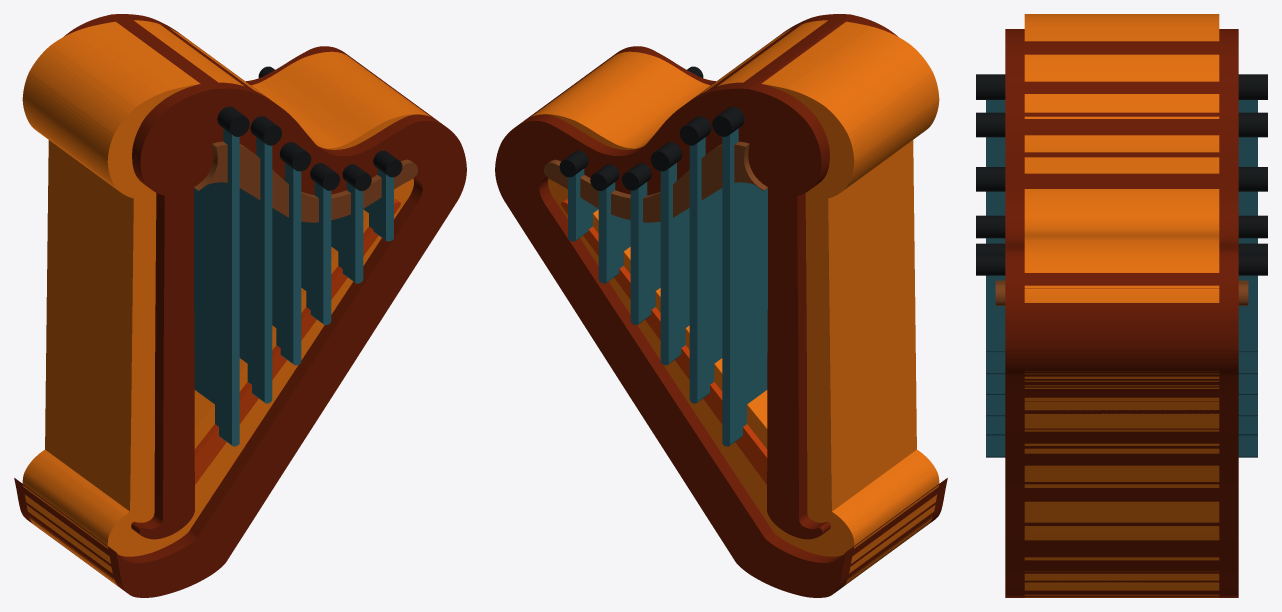
The picture shows the model from 3 angles, left to right: view 1: azimuth 30°, elevation 25°; view 2: azimuth 150°, elevation 25°; view 3: azimuth 270°, elevation 25°; orthographic projection. The views are drawn at different scales.
Visible parts, largest first — view 1: U+1FA89_layer00_obj00, U+1FA89_layer02_obj00, U+1FA89_layer04_obj00, U+1FA89_layer03_obj00, U+1FA89_layer01_obj00, U+1FA89_layer05_obj00, U+1FA89_layer05_obj05, U+1FA89_layer05_obj03, U+1FA89_layer05_obj02; view 2: U+1FA89_layer00_obj00, U+1FA89_layer02_obj00, U+1FA89_layer04_obj00, U+1FA89_layer03_obj00, U+1FA89_layer01_obj00, U+1FA89_layer05_obj00, U+1FA89_layer05_obj05, U+1FA89_layer05_obj03, U+1FA89_layer05_obj02; view 3: U+1FA89_layer02_obj00, U+1FA89_layer00_obj00, U+1FA89_layer04_obj00, U+1FA89_layer05_obj00, U+1FA89_layer05_obj03, U+1FA89_layer05_obj02, U+1FA89_layer05_obj01, U+1FA89_layer05_obj05, U+1FA89_layer05_obj04, U+1FA89_layer03_obj00.
Boxes of the visible parts, x1,y1,x2,y2 form: U+1FA89_layer00_obj00: (22, 20, 430, 586); U+1FA89_layer02_obj00: (14, 14, 466, 597); U+1FA89_layer04_obj00: (194, 128, 393, 446); U+1FA89_layer03_obj00: (194, 141, 417, 222); U+1FA89_layer01_obj00: (194, 199, 400, 484); U+1FA89_layer05_obj00: (217, 106, 249, 136); U+1FA89_layer05_obj05: (258, 66, 402, 177); U+1FA89_layer05_obj03: (250, 116, 281, 145); U+1FA89_layer05_obj02: (279, 142, 311, 171); U+1FA89_layer00_obj00: (531, 20, 939, 586); U+1FA89_layer02_obj00: (495, 14, 947, 597); U+1FA89_layer04_obj00: (568, 128, 767, 446); U+1FA89_layer03_obj00: (544, 141, 767, 222); U+1FA89_layer01_obj00: (561, 199, 767, 484); U+1FA89_layer05_obj00: (712, 106, 744, 136); U+1FA89_layer05_obj05: (559, 66, 703, 177); U+1FA89_layer05_obj03: (680, 116, 711, 145); U+1FA89_layer05_obj02: (650, 142, 682, 171); U+1FA89_layer02_obj00: (1005, 29, 1238, 597); U+1FA89_layer00_obj00: (1024, 14, 1219, 597); U+1FA89_layer04_obj00: (986, 100, 1257, 457); U+1FA89_layer05_obj00: (976, 74, 1267, 99); U+1FA89_layer05_obj03: (976, 112, 1267, 137); U+1FA89_layer05_obj02: (976, 167, 1267, 191); U+1FA89_layer05_obj01: (976, 215, 1267, 238); U+1FA89_layer05_obj05: (976, 254, 1267, 275); U+1FA89_layer05_obj04: (976, 243, 1267, 253); U+1FA89_layer03_obj00: (995, 280, 1248, 305).
Bounding box in the file's own units: 0.2382 × 0.3214 × 0.15.
